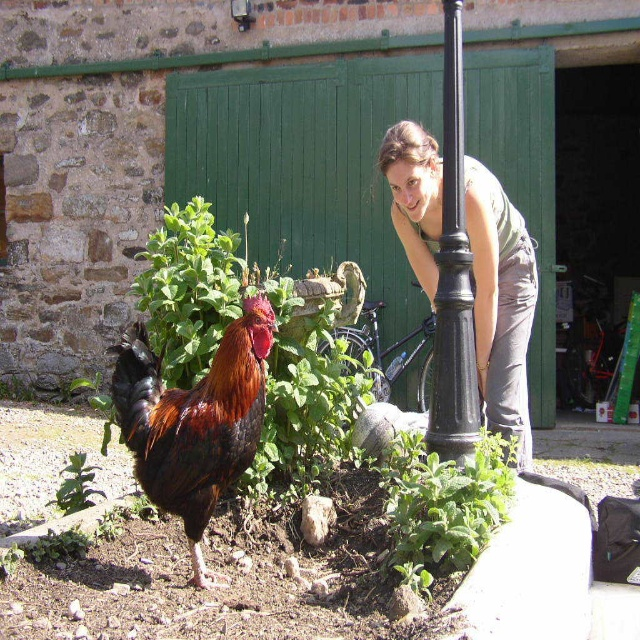Chicken: (105, 291, 281, 579)
